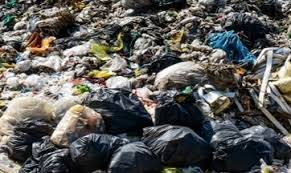garbage: (1, 2, 290, 173)
